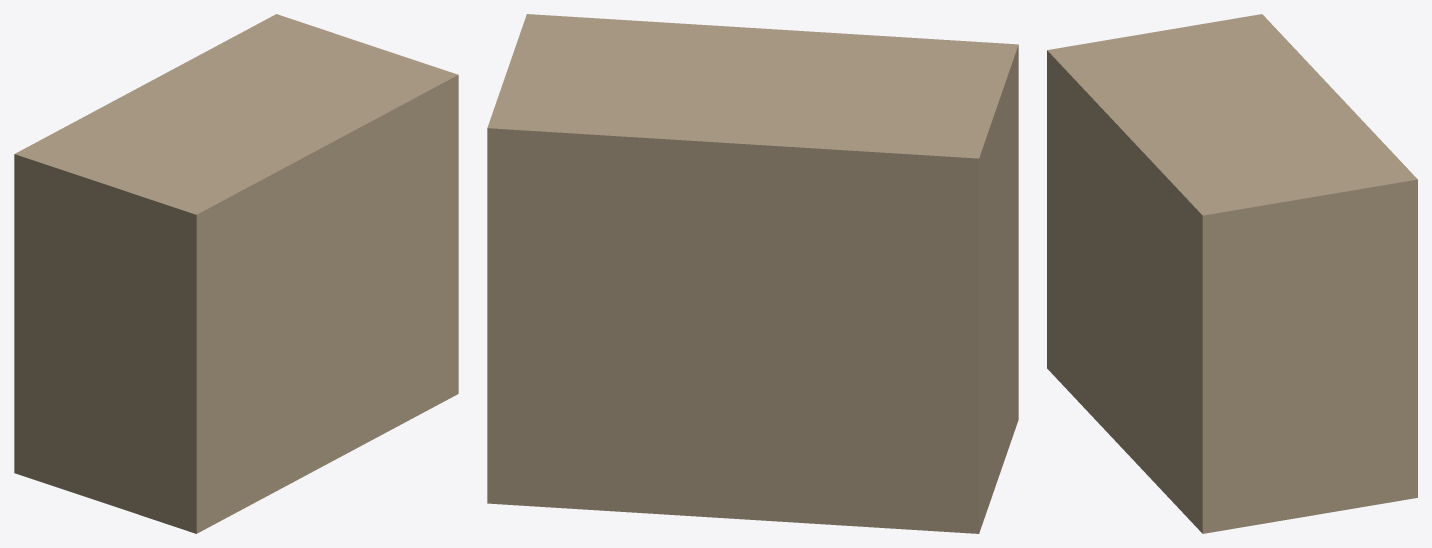
File: bld_107638986.dae
The picture shows the model from 3 angles, left to right: view 1: azimuth 30°, elevation 25°; view 2: azimuth 150°, elevation 25°; view 3: azimuth 270°, elevation 25°; orthographic projection. The views are drawn at different scales.
Parts seen in each view (by area): view 1: bld_107638986; view 2: bld_107638986; view 3: bld_107638986.
Part boxes in pixels (bbox=[...]): bld_107638986: bbox=[14, 14, 458, 533]; bld_107638986: bbox=[487, 14, 1018, 533]; bld_107638986: bbox=[1047, 14, 1417, 533].
Bounding box in the file's own units: 10.87 × 8.45 × 8.
